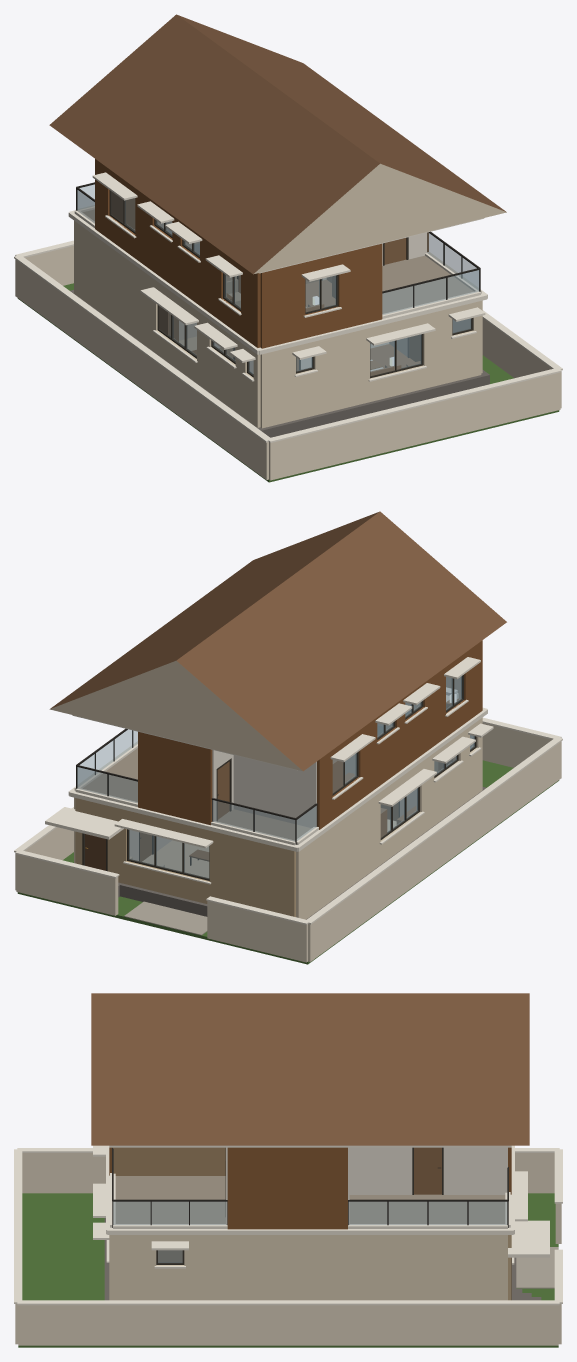
The model's file is house4.glb.
The picture shows the model from 3 angles, top to bottom: view 1: azimuth 30°, elevation 25°; view 2: azimuth 150°, elevation 25°; view 3: azimuth 270°, elevation 25°; orthographic projection. The views are drawn at different scales.
Parts seen in each view (by area): view 1: roof__roof_tile, level_0__structure__plaster, site__compound_wall, level_1__structure__timber_boards, roof__plaster, site__concrete_band, level_1__structure__concrete_band, level_1__structure__railing_glass, level_1__floors__floor_outdoor, level_0__structure__glass, site__plinth_stone, level_0__structure__concrete_band (+12 smaller); view 2: roof__roof_tile, site__compound_wall, level_1__structure__timber_boards, level_0__structure__plaster, roof__plaster, level_0__structure__stone_cladding, level_1__structure__paint_circulation, level_1__structure__railing_glass, site__concrete_band, level_1__structure__concrete_band, level_0__structure__glass, level_1__floors__floor_outdoor (+15 smaller); view 3: roof__roof_tile, site__compound_wall, level_0__structure__plaster, site__lawn, level_1__structure__timber_boards, level_1__floors__floor_outdoor, level_1__structure__railing_glass, level_1__structure__paint_circulation, site__concrete_band, level_1__structure__accent_wall, level_1__structure__concrete_band, level_1__facade__concrete_band (+7 smaller).
Boxes of the visible parts, x1,y1,x2,y2 form: roof__roof_tile: [49, 14, 505, 273]; level_0__structure__plaster: [74, 221, 482, 428]; site__compound_wall: [15, 246, 561, 480]; level_1__structure__timber_boards: [95, 159, 428, 348]; roof__plaster: [253, 163, 506, 274]; site__concrete_band: [14, 240, 562, 442]; level_1__structure__concrete_band: [69, 172, 486, 354]; level_1__structure__railing_glass: [77, 184, 479, 314]; level_1__floors__floor_outdoor: [82, 209, 473, 313]; level_0__structure__glass: [159, 307, 470, 375]; site__plinth_stone: [70, 290, 489, 437]; level_0__structure__concrete_band: [140, 287, 485, 362]; roof__roof_tile: [50, 511, 506, 771]; site__compound_wall: [15, 723, 561, 962]; level_1__structure__timber_boards: [138, 640, 482, 829]; level_0__structure__plaster: [74, 717, 482, 919]; roof__plaster: [50, 660, 302, 770]; level_0__structure__stone_cladding: [75, 798, 295, 916]; level_1__structure__paint_circulation: [212, 750, 316, 827]; level_1__structure__railing_glass: [77, 729, 316, 841]; site__concrete_band: [14, 717, 562, 924]; level_1__structure__concrete_band: [69, 657, 484, 851]; level_0__structure__glass: [129, 735, 474, 878]; level_1__floors__floor_outdoor: [83, 748, 311, 840]; roof__roof_tile: [91, 993, 529, 1145]; site__compound_wall: [15, 1153, 561, 1345]; level_0__structure__plaster: [109, 1235, 507, 1300]; site__lawn: [18, 1193, 558, 1347]; level_1__structure__timber_boards: [109, 1147, 511, 1229]; level_1__floors__floor_outdoor: [115, 1176, 505, 1223]; level_1__structure__railing_glass: [113, 1201, 507, 1224]; level_1__structure__paint_circulation: [226, 1147, 507, 1224]; site__concrete_band: [14, 1148, 562, 1305]; level_1__structure__accent_wall: [113, 1147, 225, 1175]; level_1__structure__concrete_band: [107, 1146, 513, 1233]; level_1__facade__concrete_band: [106, 1145, 514, 1234].
Size of the model in its own units: 12.28 by 10.22 by 18.28.
